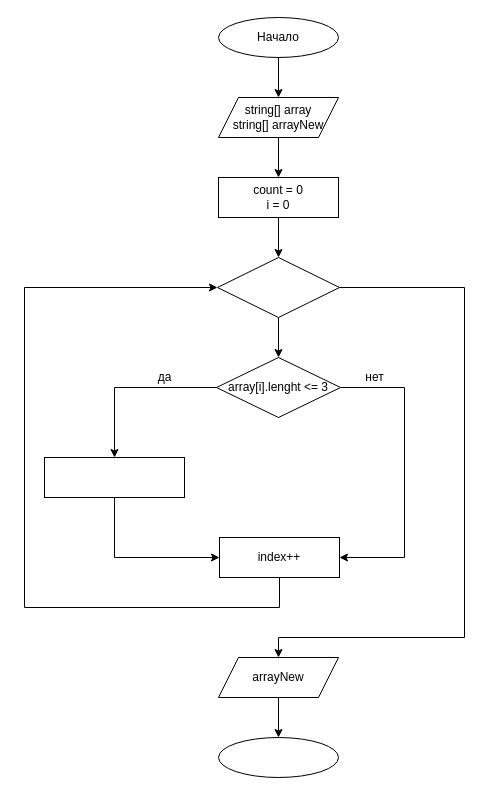
The diagram is 490 pixels wide and 795 high, and some of its shapes have lost their labels. The shapes that lost their labels are listed below. From the top down, each one's centre as x and y in pixels, then its label:
[278,287]: i < array.lenght
[114,477]: arrayNew[count] = array[i] count++
[278,757]: Конец
